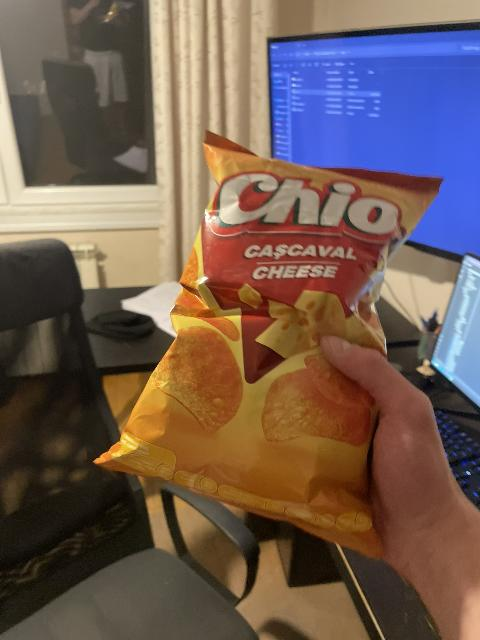Chio Cascaval 125g: (90, 128, 439, 553)
